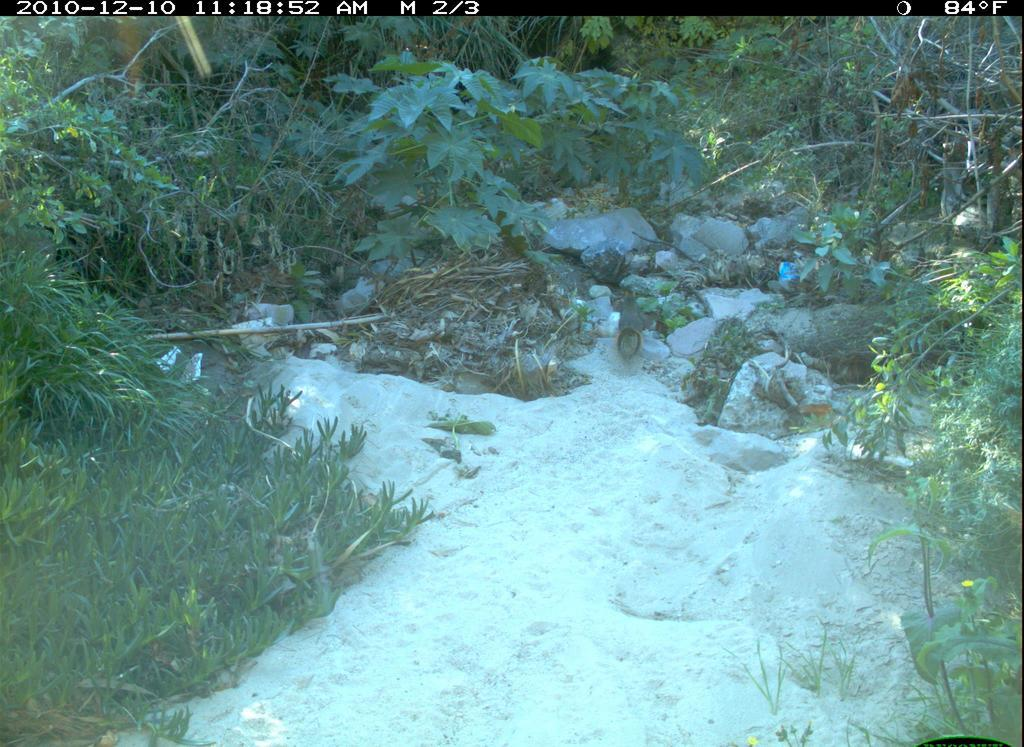squirrel: (611, 287, 653, 362)
